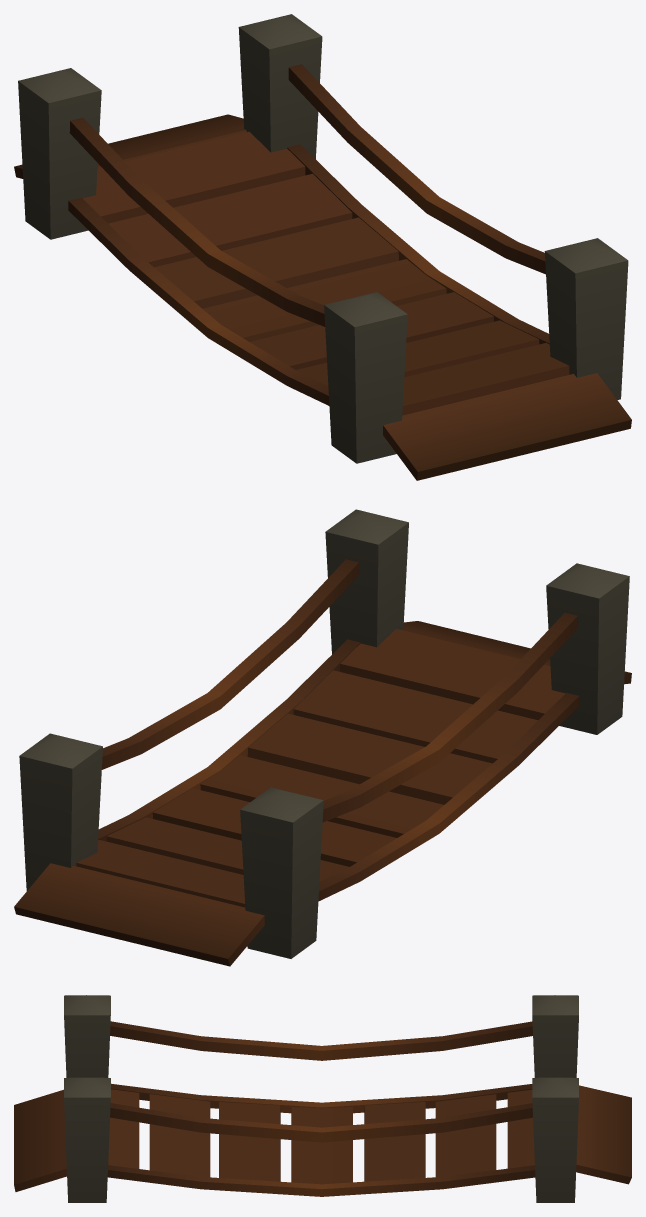
3 views of the same model, one above another, from view 1: azimuth 30°, elevation 25°; view 2: azimuth 150°, elevation 25°; view 3: azimuth 270°, elevation 25° (orthographic). The views are drawn at different scales.
Visible parts, largest first — view 1: pasted__polySurface142; view 2: pasted__polySurface142; view 3: pasted__polySurface142.
Part boxes in pixels (x1,y1,x2,y2): pasted__polySurface142: [14, 14, 631, 480]; pasted__polySurface142: [14, 509, 631, 966]; pasted__polySurface142: [14, 995, 631, 1202].
Size of the model in its own units: 3.92 by 2.1 by 10.
